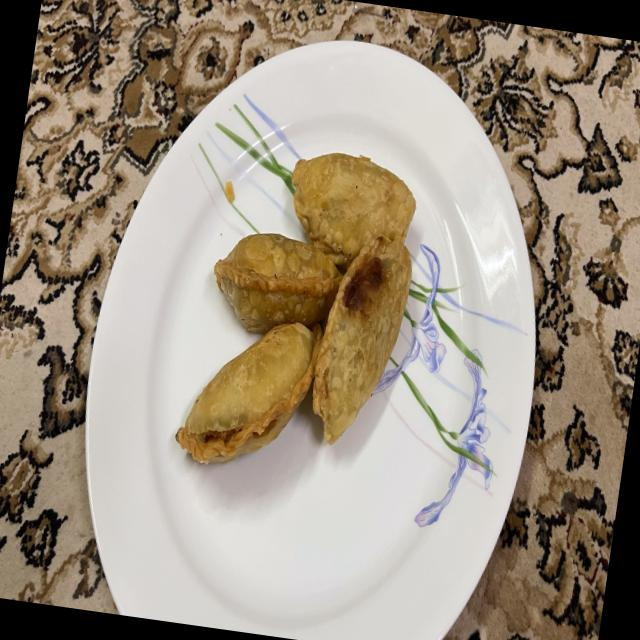karipap: (176, 323, 322, 464), (313, 239, 412, 445), (292, 153, 416, 268), (214, 233, 342, 334)
